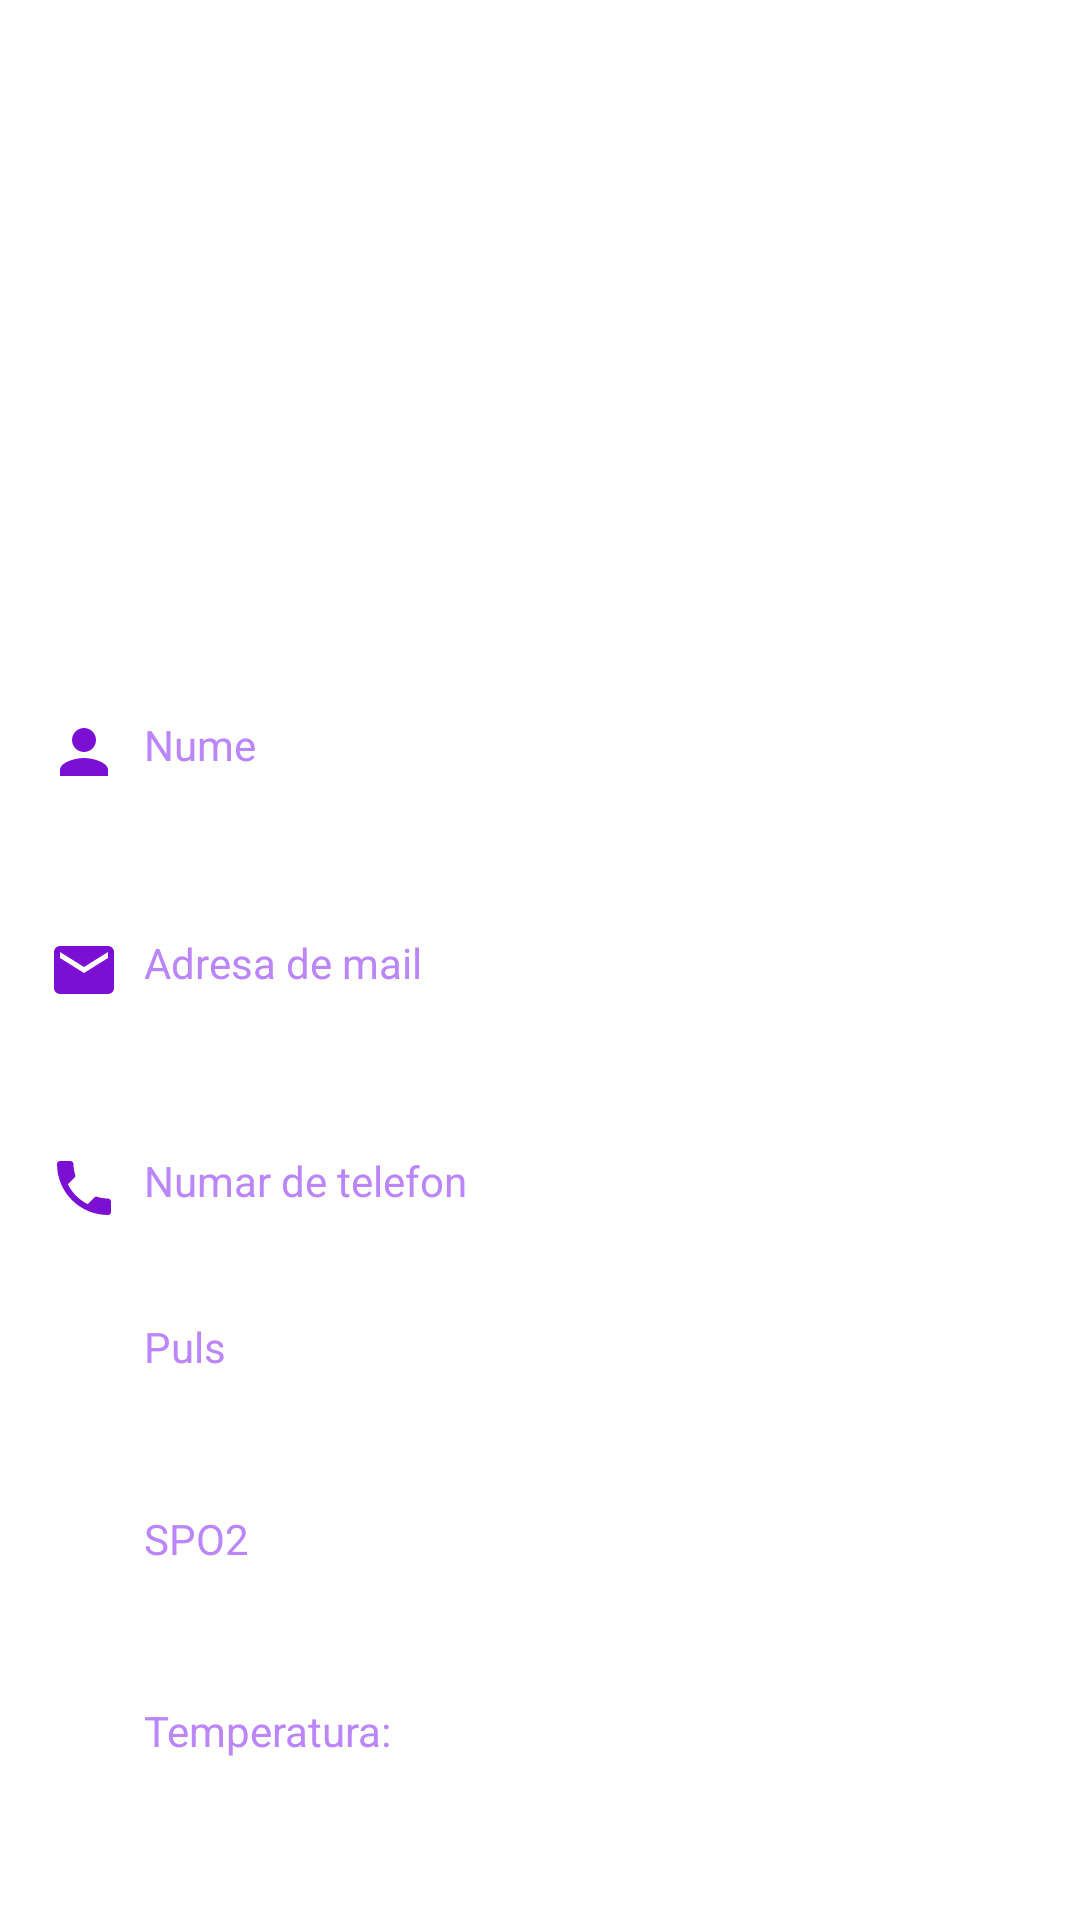

Named icons in this screenshot (1080 × 1920) and their centers, [x,y]:
local phone: [84,1188]
person: [84,752]
